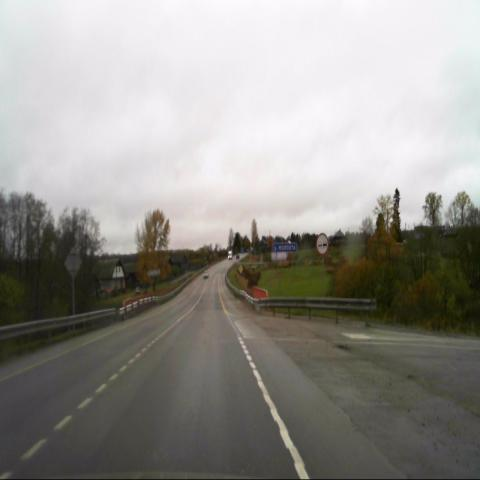3_20: (315, 231, 329, 255)
